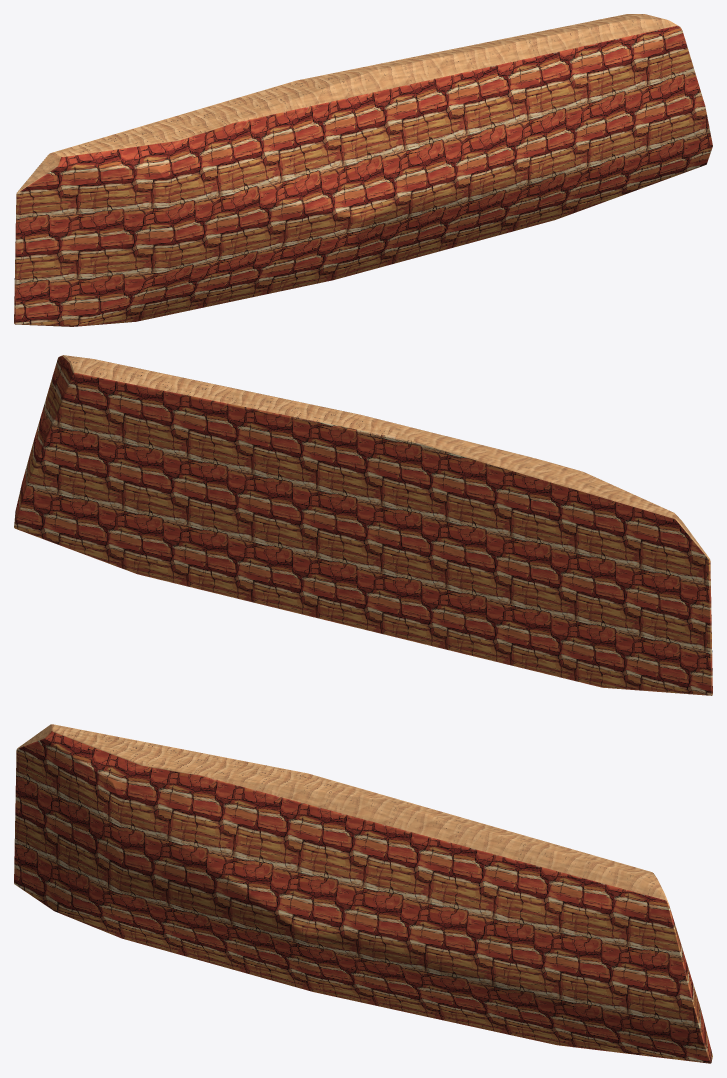
File: v4_cliff_n_01.glb
3 views of the same model, one above another, from view 1: azimuth 30°, elevation 25°; view 2: azimuth 150°, elevation 25°; view 3: azimuth 330°, elevation 25° (orthographic). The views are drawn at different scales.
Parts seen in each view (by area): view 1: v4_cliff_n_01; view 2: v4_cliff_n_01; view 3: v4_cliff_n_01.
Boxes of the visible parts, x1,y1,x2,y2 form: v4_cliff_n_01: (14, 14, 712, 326); v4_cliff_n_01: (14, 355, 712, 695); v4_cliff_n_01: (14, 724, 712, 1063).
Bounding box in the file's own units: 21.95 × 6 × 2.
Materials: 1 (1 with a texture image).
